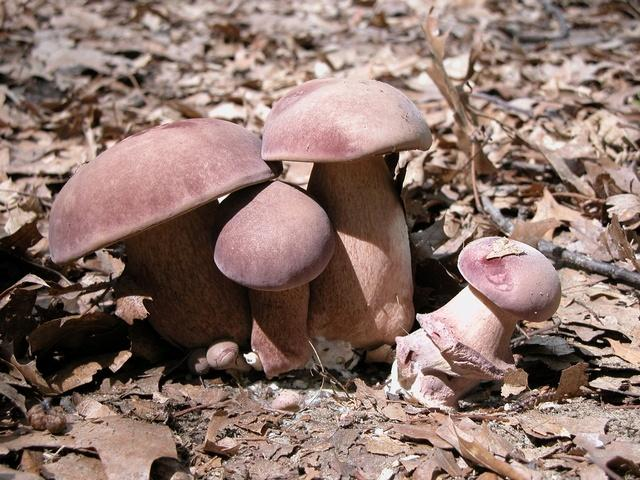Non-edible Mushroom: (47, 115, 276, 352), (259, 75, 433, 358), (387, 234, 562, 412)
